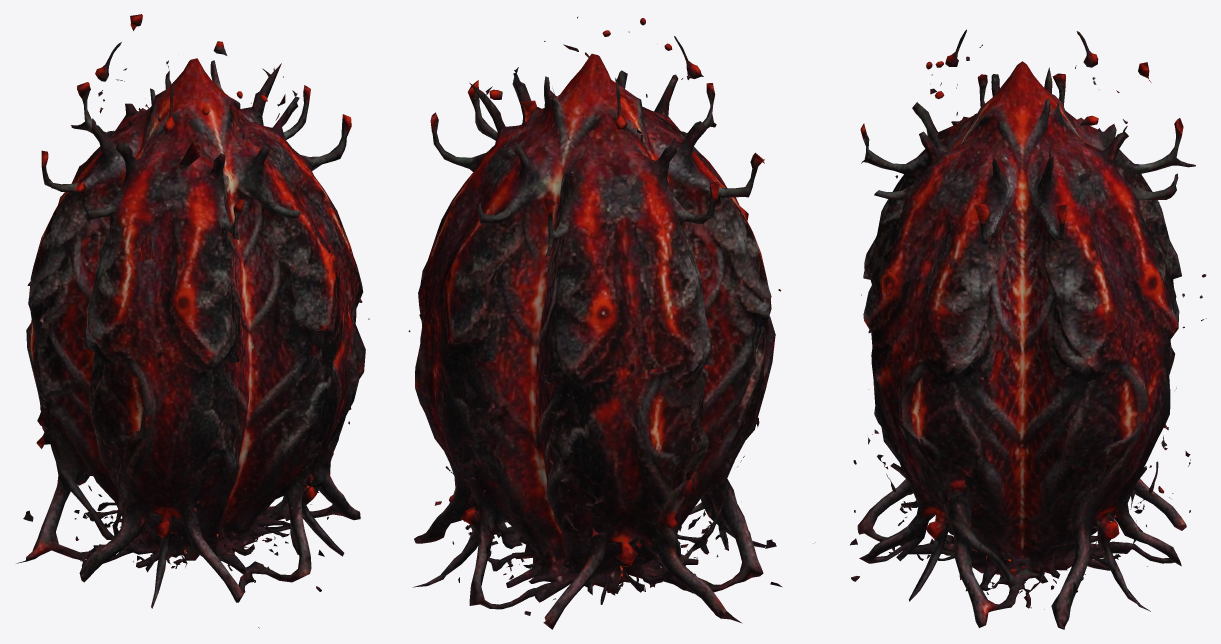
File: motheregg_rtp.glb
3 renders of one model, left to right at view 1: azimuth 30°, elevation 25°; view 2: azimuth 150°, elevation 25°; view 3: azimuth 270°, elevation 25°, orthographic. The views are drawn at different scales.
Parts seen in each view (by area): view 1: tripo_node_98ad34a0-0ac6-4ca6-a5ce-9854d7bfaf2f; view 2: tripo_node_98ad34a0-0ac6-4ca6-a5ce-9854d7bfaf2f; view 3: tripo_node_98ad34a0-0ac6-4ca6-a5ce-9854d7bfaf2f.
Boxes of the visible parts, x1=… form: tripo_node_98ad34a0-0ac6-4ca6-a5ce-9854d7bfaf2f: x1=16, y1=14, x2=369, y2=628; tripo_node_98ad34a0-0ac6-4ca6-a5ce-9854d7bfaf2f: x1=408, y1=17, x2=782, y2=629; tripo_node_98ad34a0-0ac6-4ca6-a5ce-9854d7bfaf2f: x1=815, y1=29, x2=1206, y2=629.
Size of the model in its own units: 0.6045 by 0.963 by 0.6524.
Materials: 1 (1 with a texture image).
